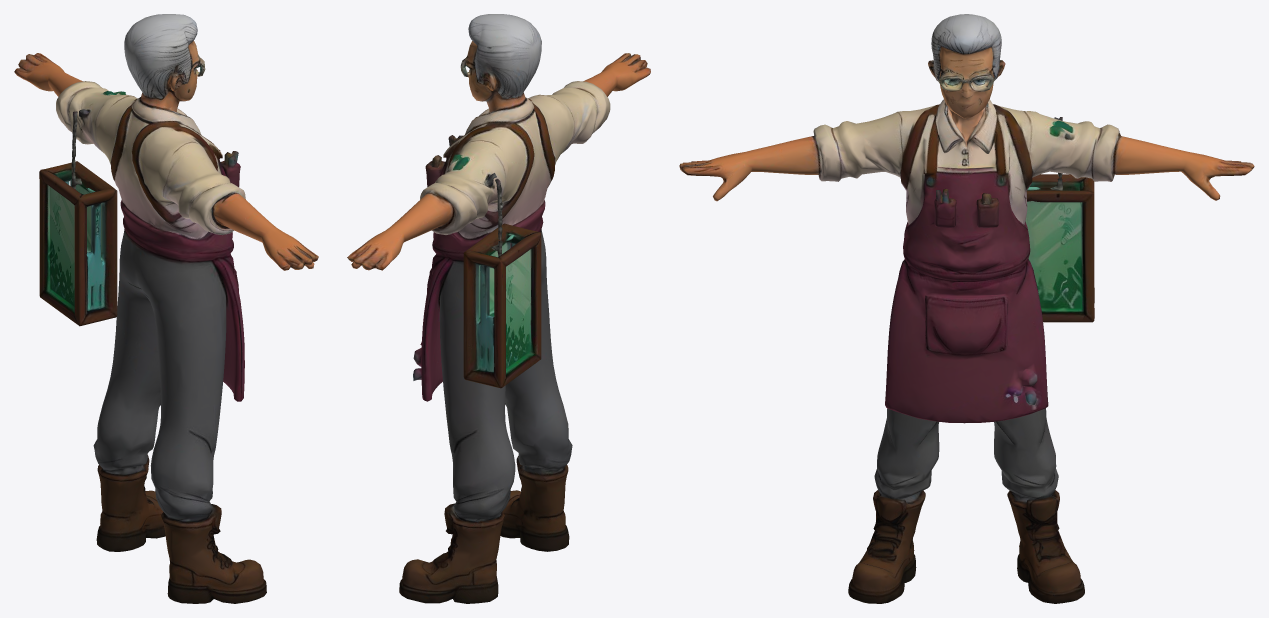
The model's file is n2_glazier.e14906d7.glb.
3 views of the same model, side by side, from view 1: azimuth 30°, elevation 25°; view 2: azimuth 150°, elevation 25°; view 3: azimuth 270°, elevation 25° (orthographic).
Visible parts, largest first — view 1: tripo_node_1761ee08-1716-412d-b962-ea2c8fd889ec; view 2: tripo_node_1761ee08-1716-412d-b962-ea2c8fd889ec; view 3: tripo_node_1761ee08-1716-412d-b962-ea2c8fd889ec.
Part boxes in pixels (bbox=[...]): tripo_node_1761ee08-1716-412d-b962-ea2c8fd889ec: bbox=[14, 14, 318, 603]; tripo_node_1761ee08-1716-412d-b962-ea2c8fd889ec: bbox=[347, 14, 650, 603]; tripo_node_1761ee08-1716-412d-b962-ea2c8fd889ec: bbox=[679, 14, 1254, 603].
Bounding box in the file's own units: 0.2414 × 1 × 0.9309.
Materials: 1 (1 with a texture image).
